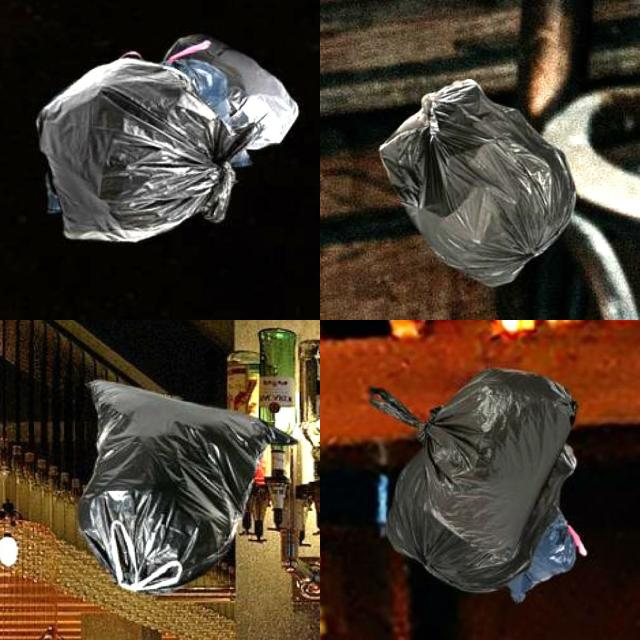Single-layer Plastic: (38, 35, 299, 242), (369, 369, 576, 601), (79, 380, 290, 591), (380, 80, 575, 286)
